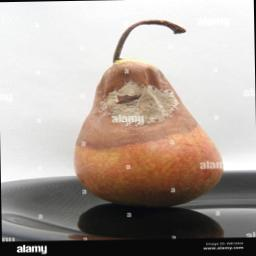Pear Rotten: (70, 12, 225, 206)
